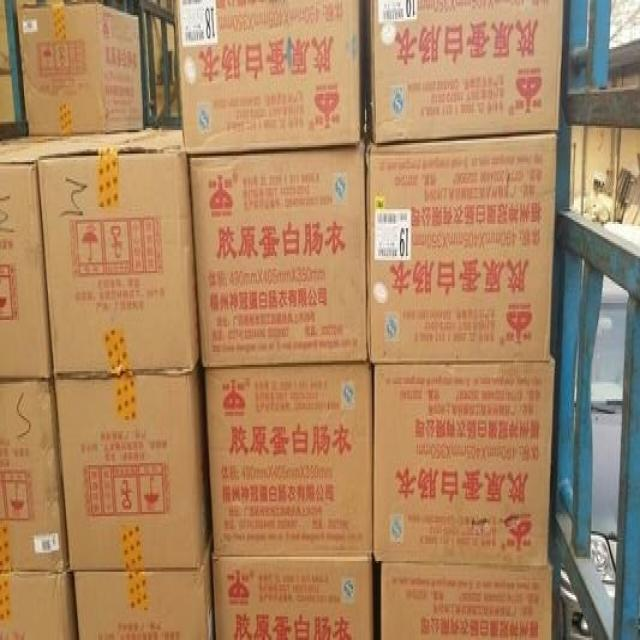box: (367, 136, 555, 366), (189, 144, 369, 369), (37, 130, 200, 377), (372, 363, 553, 567), (51, 361, 212, 571), (201, 365, 374, 556), (172, 2, 367, 152), (365, 2, 562, 146), (18, 4, 144, 138), (0, 135, 62, 379), (72, 539, 216, 638), (0, 377, 68, 573), (212, 554, 372, 637), (380, 564, 553, 637), (0, 571, 76, 638)
